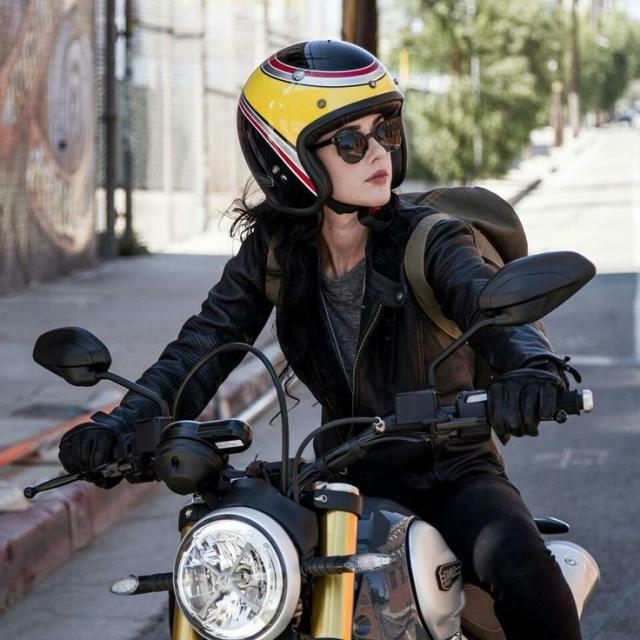helmet: (236, 38, 407, 216)
